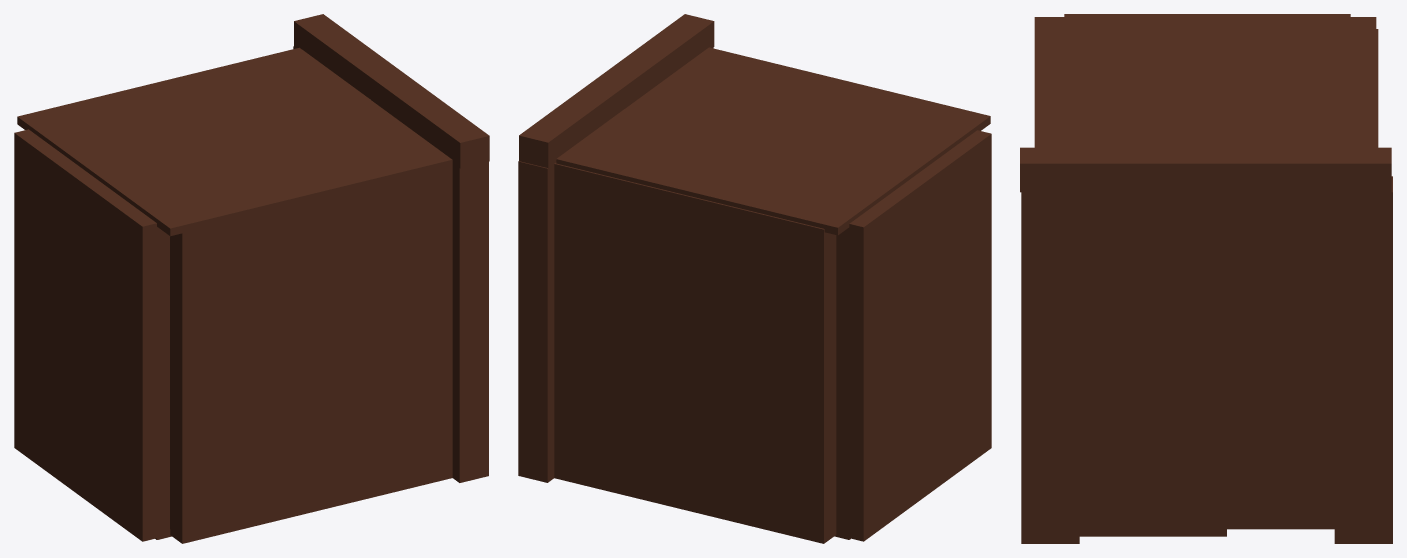
The model's file is elevator (1).fbx.
The picture shows the model from 3 angles, left to right: view 1: azimuth 30°, elevation 25°; view 2: azimuth 150°, elevation 25°; view 3: azimuth 270°, elevation 25°; orthographic projection. The views are drawn at different scales.
Parts seen in each view (by area): view 1: Cube.005; view 2: Cube.005; view 3: Cube.005, Cube.010, Cube.011.
Boxes of the visible parts, box(x1,y1,x2,y2) form: Cube.005: box(14, 14, 489, 543); Cube.005: box(518, 14, 991, 543); Cube.005: box(1020, 14, 1392, 543); Cube.010: box(1079, 192, 1226, 536); Cube.011: box(1227, 192, 1334, 529).
Bounding box in the file's own units: 200 × 200 × 177.
